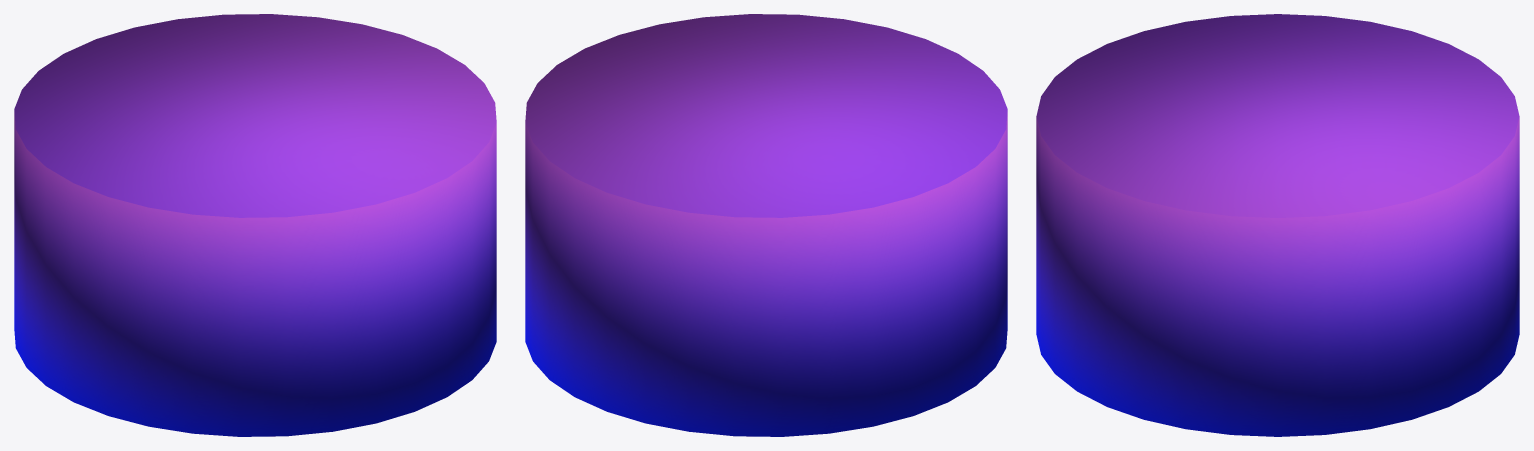
File: Menuroom.fbx
The picture shows the model from 3 angles, left to right: view 1: azimuth 30°, elevation 25°; view 2: azimuth 150°, elevation 25°; view 3: azimuth 270°, elevation 25°; orthographic projection.
Parts seen in each view (by area): view 1: Cylinder; view 2: Cylinder; view 3: Cylinder.
Part boxes in pixels (<box>): Cylinder: <box>14,14,496,436</box>; Cylinder: <box>525,14,1007,436</box>; Cylinder: <box>1036,14,1519,436</box>.
Bounding box in the file's own units: 2000 × 1000 × 2000.
1 material, 1 textured.
